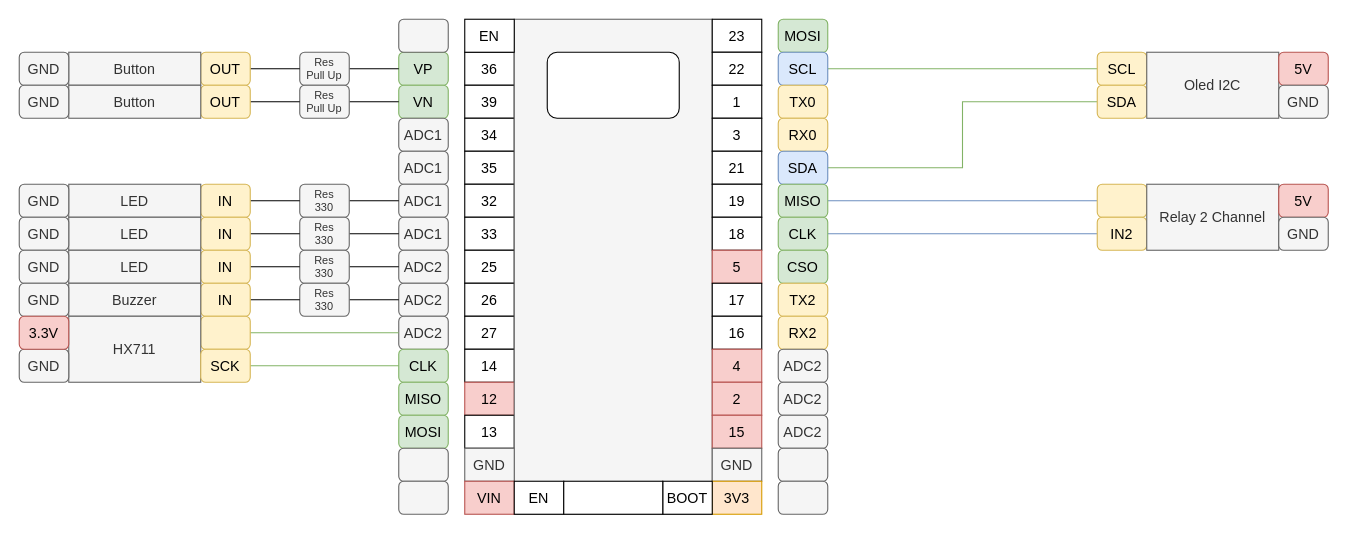
Some shapes in this 1348 by 534 pixel diagram are drawn without their labels. The shapes that lost their labels are listed below. From the top down, each one's box as (x1, y1, x2, y2) in pixels, then its label:
(546, 51, 679, 118): ESP32
(1096, 183, 1147, 217): IN1
(200, 315, 250, 349): DT
(563, 480, 663, 514): USB
